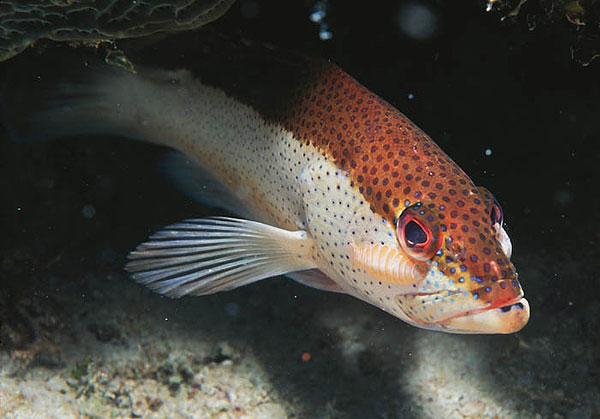Cephalopholis_fulvaw: (23, 15, 552, 346)
